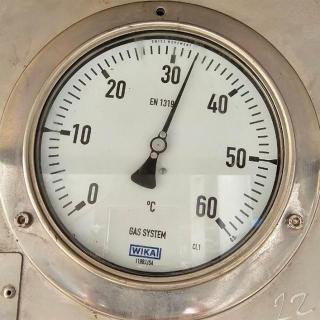gauge: (0, 4, 308, 319), (202, 204, 234, 234), (66, 188, 98, 218), (149, 135, 167, 153), (191, 50, 202, 62)
